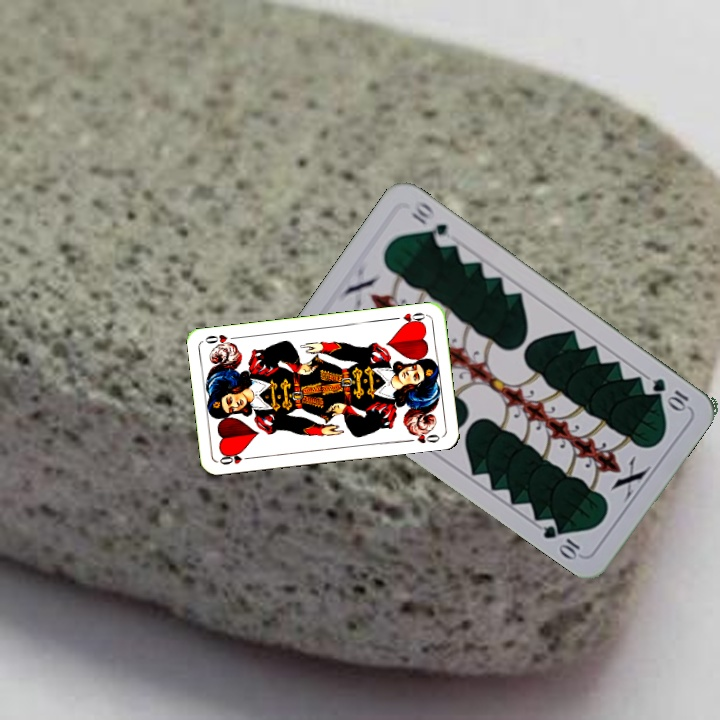G10: (648, 374, 692, 413)
HO: (388, 308, 429, 328), (215, 448, 256, 467)
